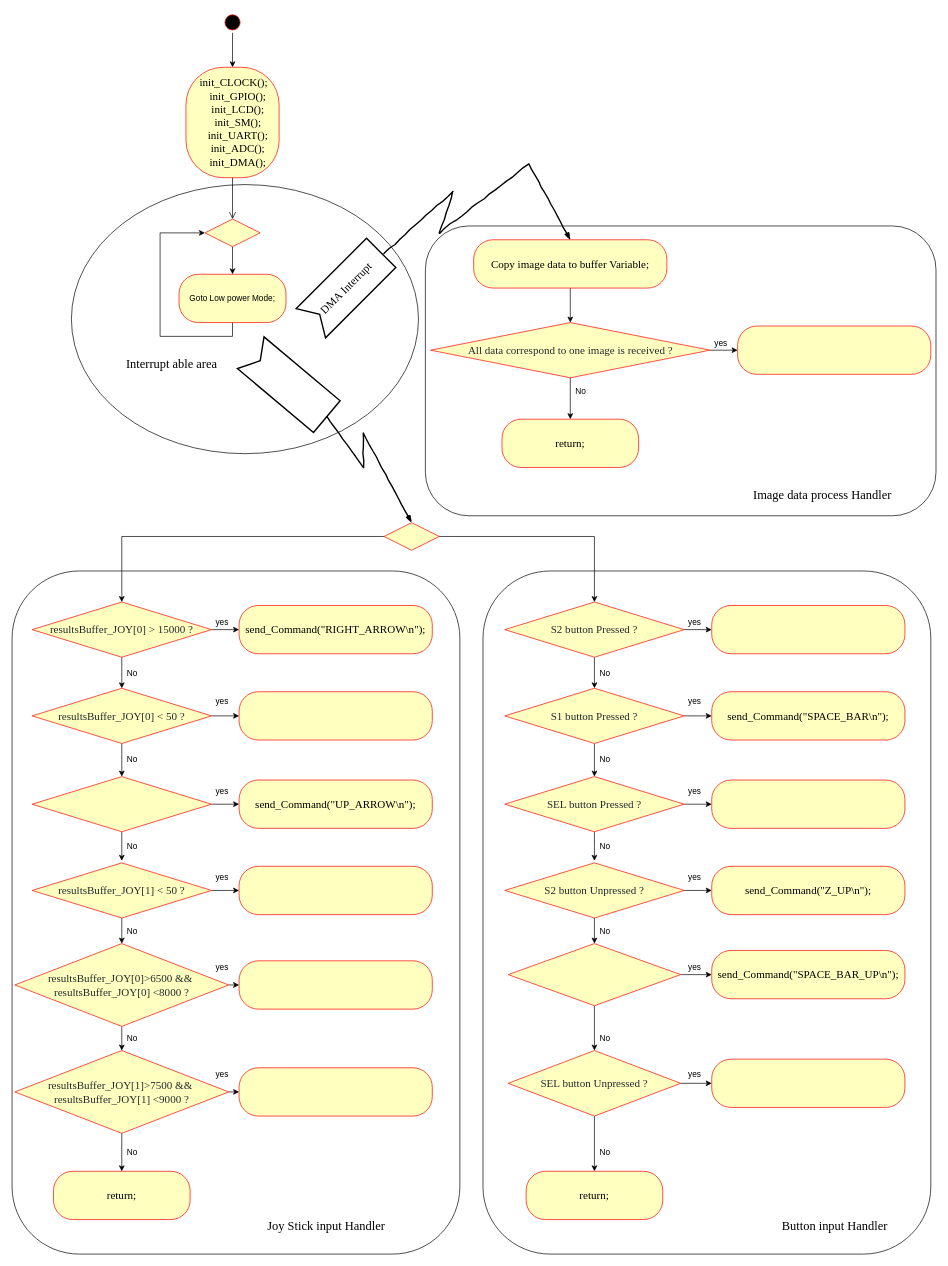
The diagram is 948 pixels wide and 1266 high, and some of its shapes have lost their labels. The shapes that lost their labels are listed below. From the top down, each one's centre as x and y in pixels, then its label:
the point at 834,349: Updata BoosterPack LCD with new image;
the point at 288,384: ADC Interrupt
the point at 808,629: send_Command("Z\n");
the point at 335,715: send_Command("LEFT_ARROW\n");
the point at 121,804: resultsBuffer_JOY[1] > 15000 ?
the point at 808,803: send_Command("X\n");
the point at 335,890: send_Command("DOWN_ARROW\n");
the point at 335,984: send_Command("LR_ARROW_UP\n");
the point at 594,974: S1 button Unpressed ?
the point at 335,1091: send_Command("UD_ARROW_UP\n");
the point at 808,1082: send_Command("X_UP\n");
